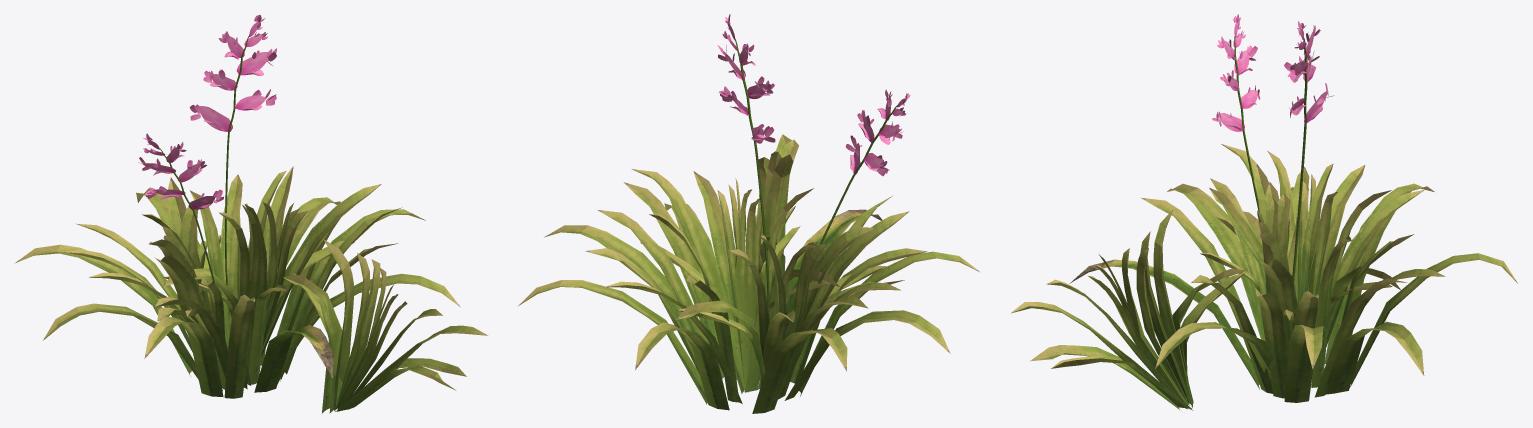
Rendered from uploads_files_3462623_Grass.fbx.
3 views of the same model, side by side, from view 1: azimuth 30°, elevation 25°; view 2: azimuth 150°, elevation 25°; view 3: azimuth 270°, elevation 25° (orthographic). The views are drawn at different scales.
Parts seen in each view (by area): view 1: Grass; view 2: Grass; view 3: Grass.
Part boxes in pixels (x1,y1,x2,y2): Grass: (14, 15, 488, 413); Grass: (518, 14, 980, 413); Grass: (1011, 14, 1517, 410).
Bounding box in the file's own units: 11.76 × 10.41 × 12.91.
Materials: 2 (2 with a texture image).
